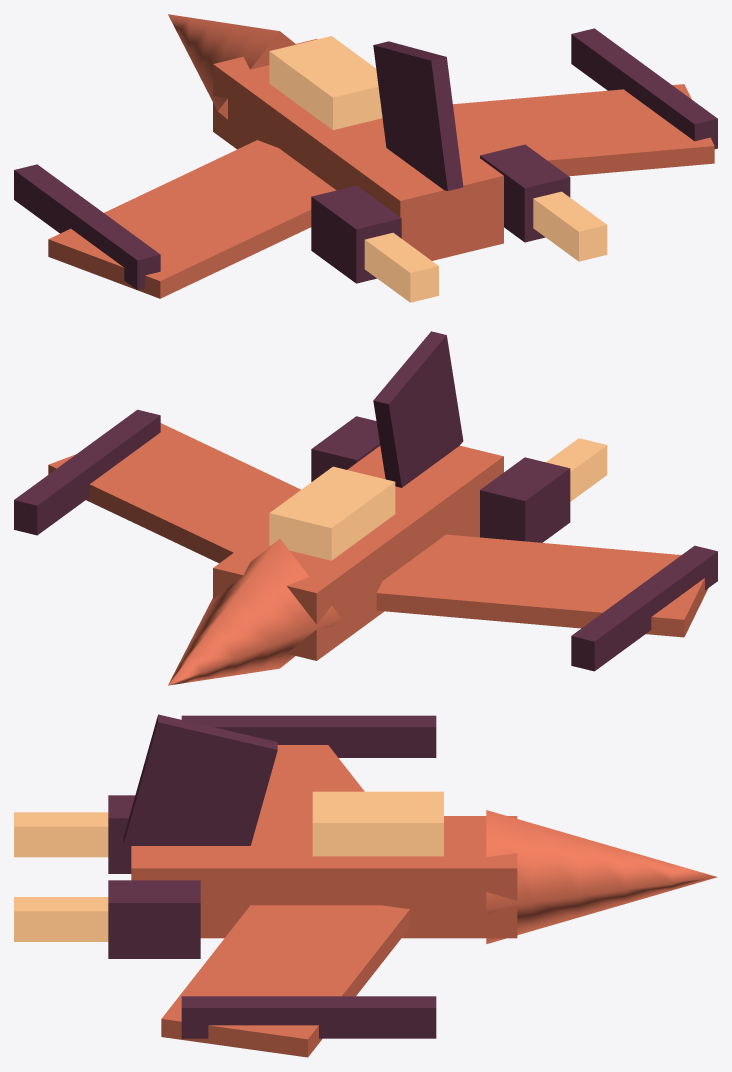
File: enemy_scout.glb
3 views of the same model, one above another, from view 1: azimuth 30°, elevation 25°; view 2: azimuth 150°, elevation 25°; view 3: azimuth 270°, elevation 25° (orthographic). The views are drawn at different scales.
Visible parts, largest first — view 1: _MeshInstance3D_3, _MeshInstance3D_6, _MeshInstance3D_10, _MeshInstance3D_14, _MeshInstance3D_5, _MeshInstance3D_7, _MeshInstance3D_11, _MeshInstance3D_8, _MeshInstance3D_4, _MeshInstance3D_12, JetRight, JetLeft; view 2: _MeshInstance3D_6, _MeshInstance3D_3, _MeshInstance3D_10, _MeshInstance3D_4, _MeshInstance3D_14, _MeshInstance3D_5, _MeshInstance3D_7, _MeshInstance3D_8, _MeshInstance3D_11, _MeshInstance3D_12, JetLeft; view 3: _MeshInstance3D_3, _MeshInstance3D_10, _MeshInstance3D_14, _MeshInstance3D_4, _MeshInstance3D_11, _MeshInstance3D_5, _MeshInstance3D_7, _MeshInstance3D_12, _MeshInstance3D_6, JetLeft, JetRight, _MeshInstance3D_8.
Boxes of the visible parts, <box> form: _MeshInstance3D_3: <box>213,39,503,260</box>; _MeshInstance3D_6: <box>48,140,336,298</box>; _MeshInstance3D_10: <box>453,84,714,176</box>; _MeshInstance3D_14: <box>373,41,463,190</box>; _MeshInstance3D_5: <box>269,36,382,129</box>; _MeshInstance3D_7: <box>14,164,160,289</box>; _MeshInstance3D_11: <box>571,28,717,149</box>; _MeshInstance3D_8: <box>311,185,401,283</box>; _MeshInstance3D_4: <box>168,14,296,119</box>; _MeshInstance3D_12: <box>480,144,570,242</box>; JetRight: <box>533,191,607,261</box>; JetLeft: <box>364,232,438,302</box>; _MeshInstance3D_6: <box>376,534,708,637</box>; _MeshInstance3D_3: <box>213,445,503,660</box>; _MeshInstance3D_10: <box>48,423,300,563</box>; _MeshInstance3D_4: <box>168,538,341,685</box>; _MeshInstance3D_14: <box>373,331,463,487</box>; _MeshInstance3D_5: <box>269,466,395,560</box>; _MeshInstance3D_7: <box>571,545,717,671</box>; _MeshInstance3D_8: <box>480,457,570,542</box>; _MeshInstance3D_11: <box>14,409,160,535</box>; _MeshInstance3D_12: <box>311,416,380,481</box>; JetLeft: <box>546,438,607,501</box>; _MeshInstance3D_3: <box>131,816,517,938</box>; _MeshInstance3D_10: <box>161,905,409,1057</box>; _MeshInstance3D_14: <box>123,714,277,845</box>; _MeshInstance3D_4: <box>486,810,717,944</box>; _MeshInstance3D_11: <box>181,996,436,1038</box>; _MeshInstance3D_5: <box>312,791,443,856</box>; _MeshInstance3D_7: <box>181,715,436,757</box>; _MeshInstance3D_12: <box>108,880,200,958</box>; _MeshInstance3D_6: <box>259,745,364,815</box>; JetLeft: <box>14,812,108,857</box>; JetRight: <box>14,897,108,941</box>; _MeshInstance3D_8: <box>108,795,135,873</box>.
Bounding box in the file's own units: 4.91 × 1.61 × 4.56.
